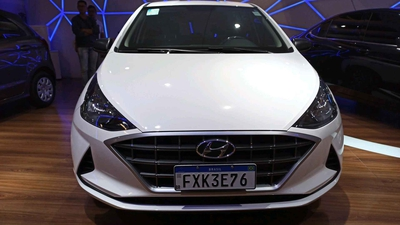Frontal Veiculo: (68, 1, 346, 215)
